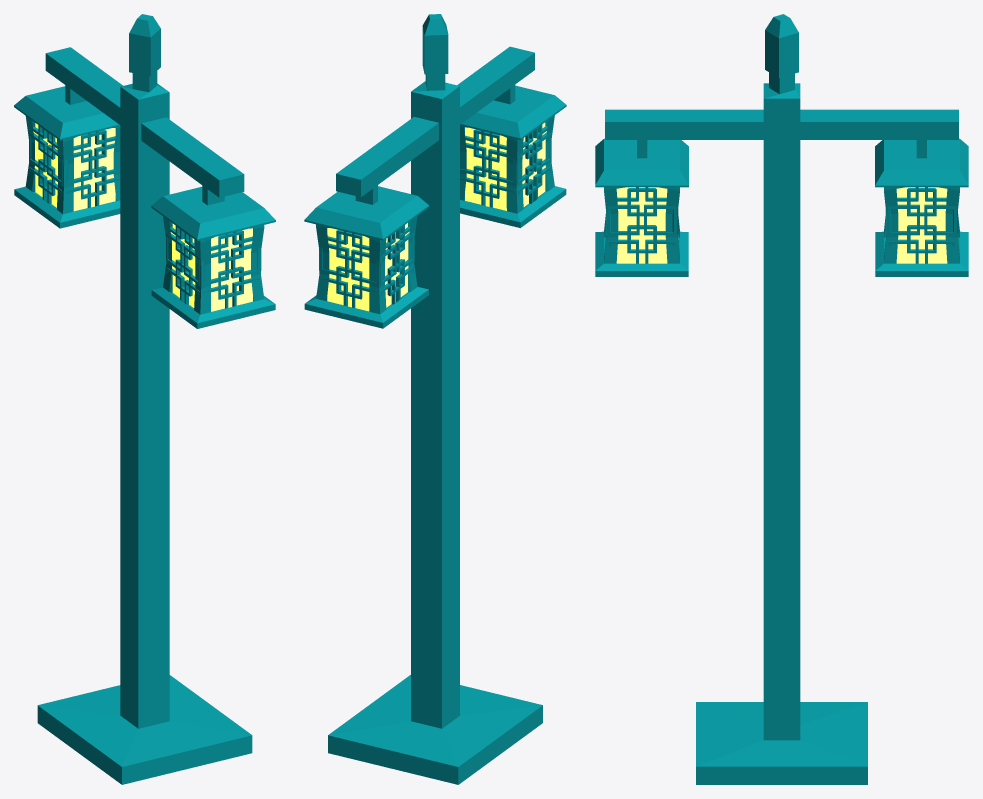
Rendered from Decor1.fbx.
The picture shows the model from 3 angles, left to right: view 1: azimuth 30°, elevation 25°; view 2: azimuth 150°, elevation 25°; view 3: azimuth 270°, elevation 25°; orthographic projection.
Visible parts, largest first — view 1: Cube.139; view 2: Cube.139; view 3: Cube.139.
Boxes of the visible parts, x1,y1,x2,y2 form: Cube.139: [14, 14, 275, 784]; Cube.139: [304, 14, 566, 784]; Cube.139: [595, 14, 968, 784].
Bounding box in the file's own units: 101 × 533 × 245.
